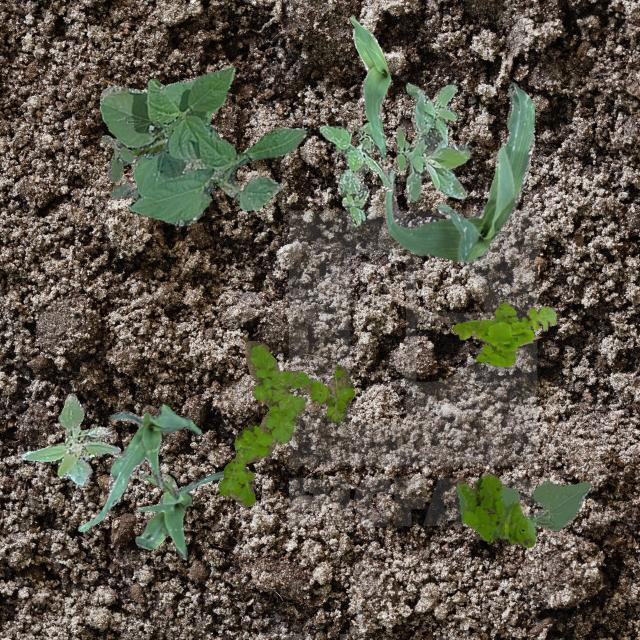crop: (98, 64, 306, 224), (382, 82, 534, 260), (78, 402, 200, 530), (134, 469, 222, 558), (348, 15, 389, 158), (496, 480, 592, 538)
weed: (216, 339, 354, 506), (20, 392, 120, 487), (394, 81, 470, 200), (318, 122, 392, 226), (452, 300, 554, 366), (456, 474, 534, 546), (100, 134, 138, 198), (132, 134, 164, 154)
